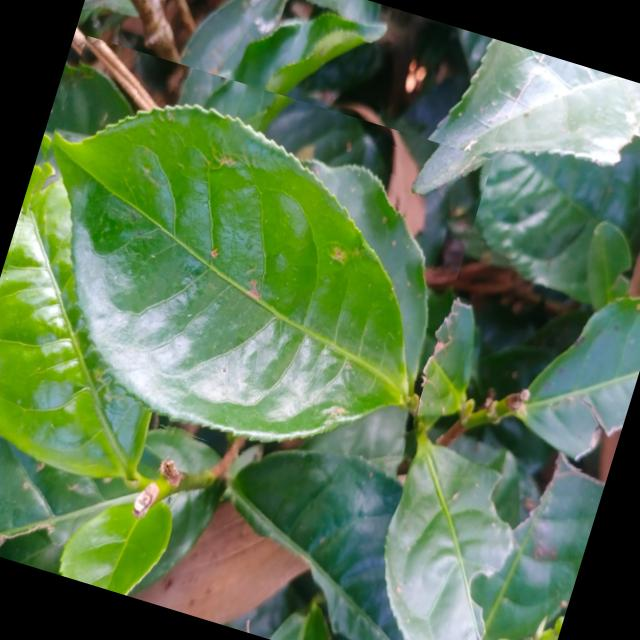Category D(7+ days, Not for Tea): (0, 31, 491, 499)
